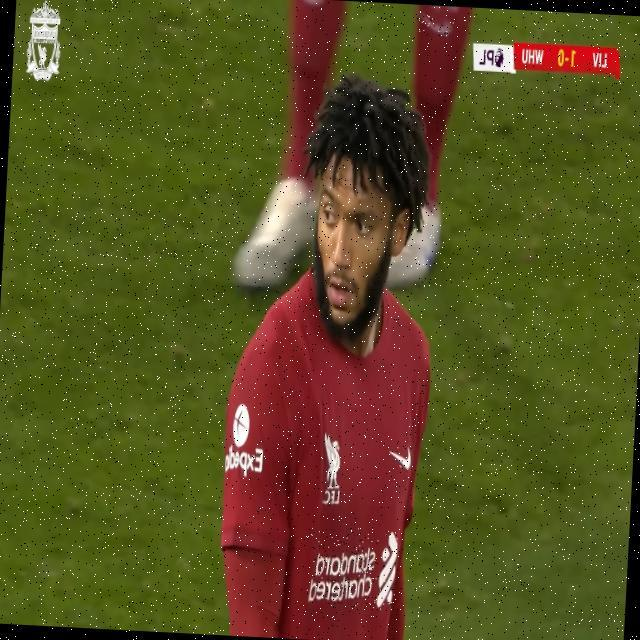Nike: (417, 12, 454, 40), (389, 446, 412, 470)
Standard Chartered: (306, 526, 399, 612)
